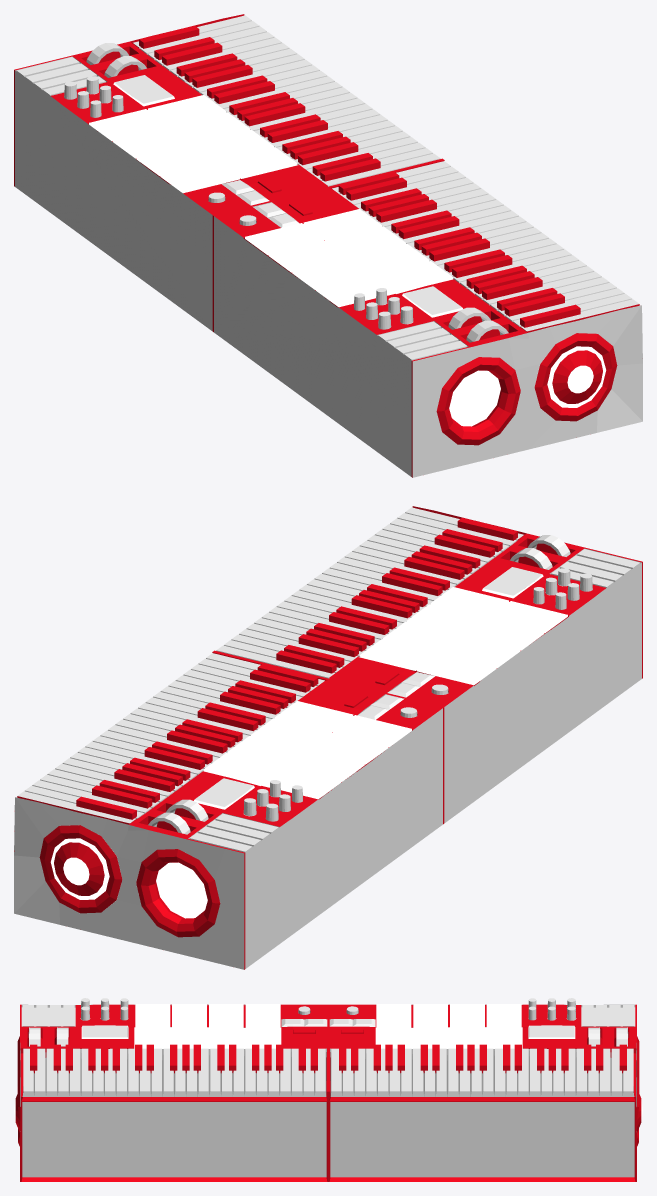
File: 2-lead-synth1.glb
The picture shows the model from 3 angles, top to bottom: view 1: azimuth 30°, elevation 25°; view 2: azimuth 150°, elevation 25°; view 3: azimuth 270°, elevation 25°; orthographic projection. The views are drawn at different scales.
Visible parts, largest first — view 1: Cube.001; view 2: Cube.001; view 3: Cube.001.
Boxes of the visible parts, x1=… form: Cube.001: x1=14, y1=14, x2=642, y2=477; Cube.001: x1=14, y1=506, x2=642, y2=969; Cube.001: x1=14, y1=998, x2=642, y2=1181.
Bounding box in the file's own units: 1.35 × 0.7239 × 4.12.
